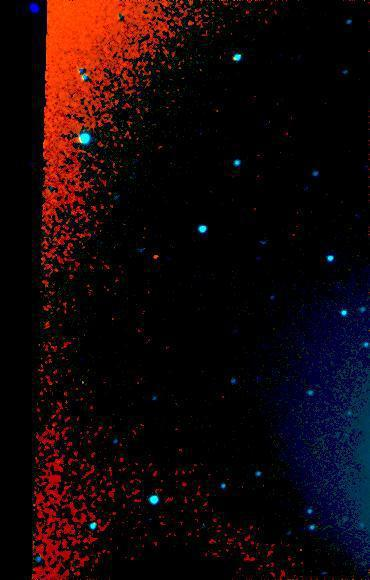star: (137, 245, 167, 275)
